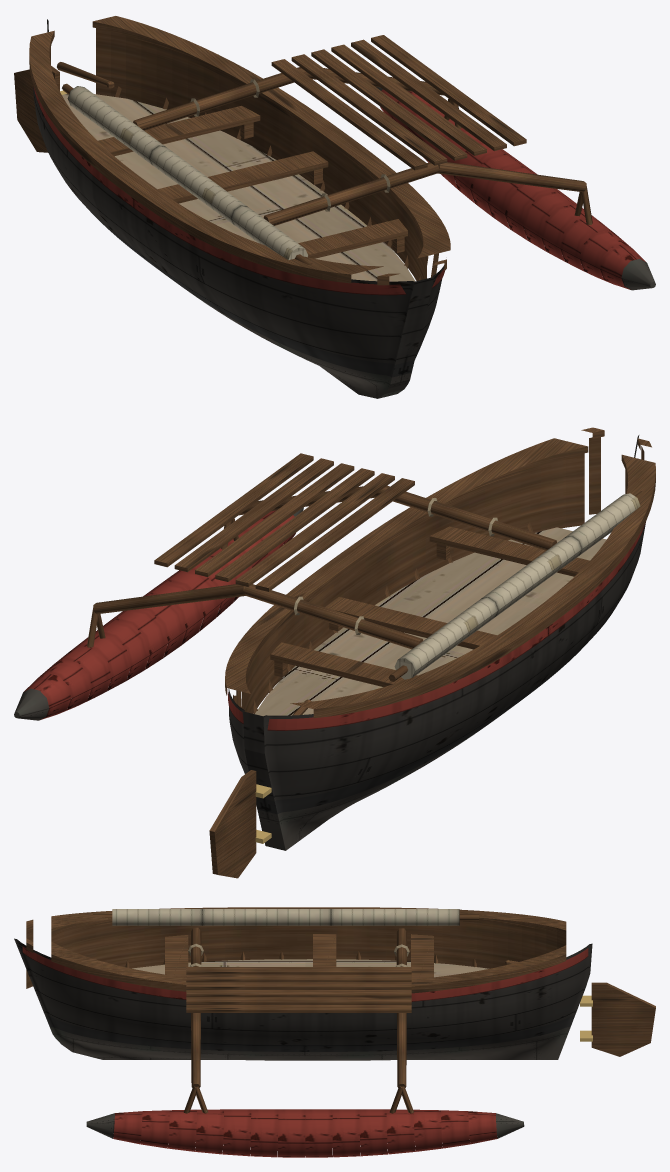
Rendered from SM_Outrigger.glb.
3 views of the same model, one above another, from view 1: azimuth 30°, elevation 25°; view 2: azimuth 150°, elevation 25°; view 3: azimuth 270°, elevation 25° (orthographic). The views are drawn at different scales.
Visible parts, largest first — view 1: SM_Outrigger; view 2: SM_Outrigger; view 3: SM_Outrigger.
Boxes of the visible parts, left/top/right/bottom form: SM_Outrigger: left=14, top=16, right=655, bottom=398; SM_Outrigger: left=14, top=427, right=655, bottom=878; SM_Outrigger: left=14, top=907, right=655, bottom=1157.
Bounding box in the file's own units: 2.9 × 1.09 × 4.99.
Materials: 9 (7 with a texture image).
